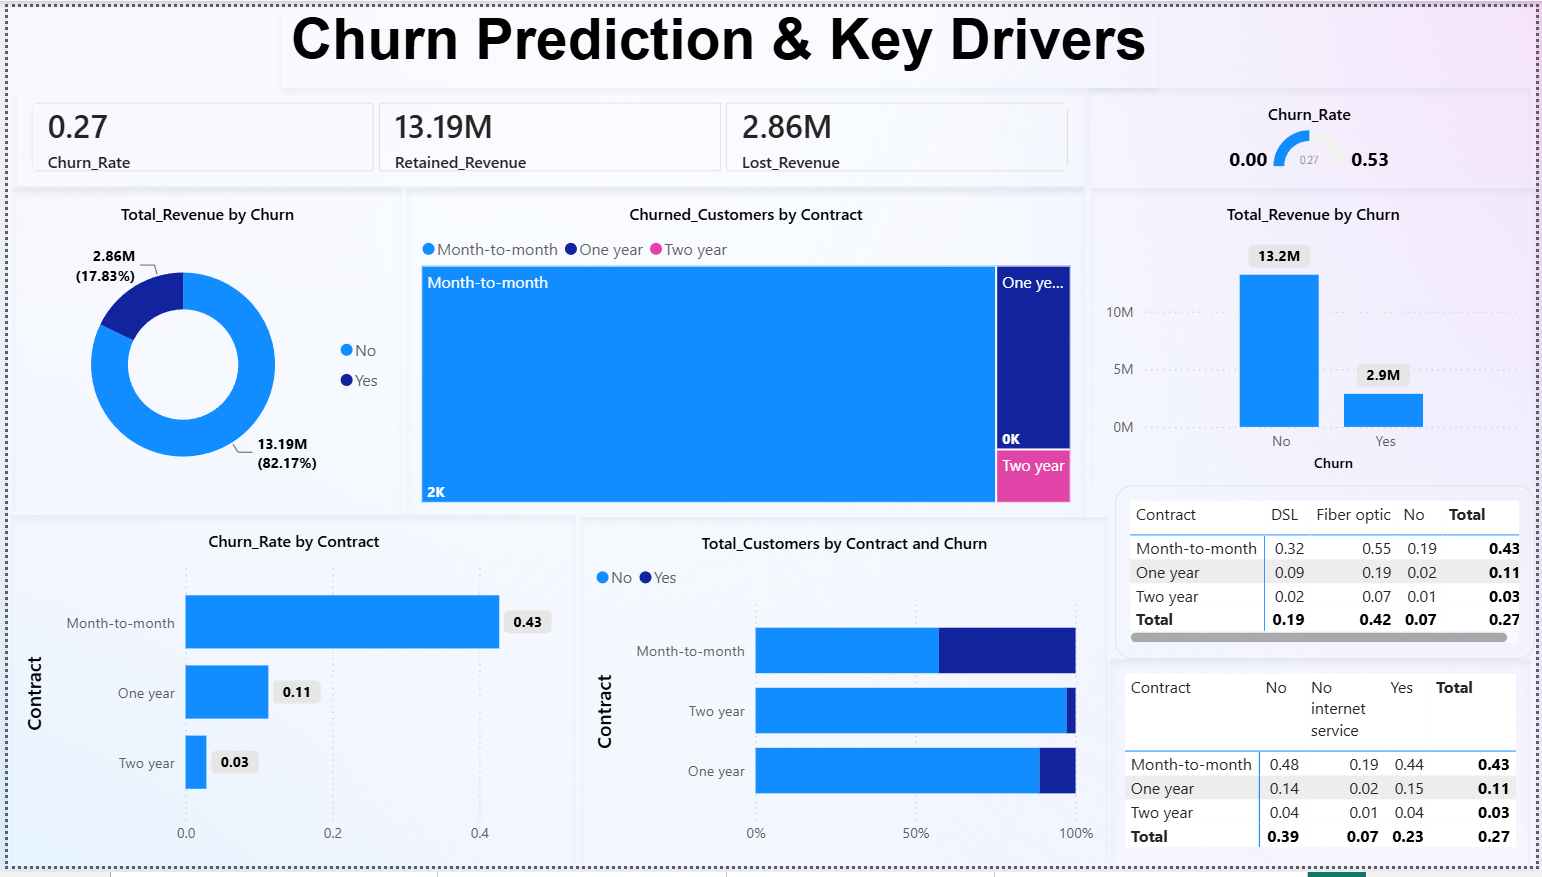

This screenshot's page, from the dashboard's own definition file:
{"tool":"powerbi","page":{"name":"Churn Prediction & Key Drivers","canvas":[1280,720],"ordinal":3},"visuals":[{"type":"clusteredBarChart","fields":{"Category":["Churn_analysis.Contract"],"Y":["Churn_analysis.Churn_Rate"]},"box":[2.4,425.9,474.1,290.8],"z":0},{"type":"hundredPercentStackedBarChart","fields":{"Category":["Churn_analysis.Contract"],"Y":["Churn_analysis.Total_Customers"],"Series":["Churn_analysis.Churn"]},"box":[480.2,427.1,441.6,289.5],"z":1000},{"type":"pivotTable","fields":{"Rows":["Churn_analysis.Contract"],"Columns":["Churn_analysis.DeviceProtection"],"Values":["Churn_analysis.Churn_Rate"]},"box":[923.7,546.3,352.1,173.7],"z":2000},{"type":"pivotTable","fields":{"Rows":["Churn_analysis.Contract"],"Columns":["Churn_analysis.InternetService"],"Values":["Churn_analysis.Churn_Rate"]},"box":[928.4,401.1,352.1,145.3],"z":3000},{"type":"donutChart","fields":{"Category":["Churn_analysis.Churn"],"Y":["Churn_analysis.Total_Revenue"]},"box":[3.6,152,326.9,271.4],"z":4000},{"type":"treemap","fields":{"Group":["Churn_analysis.Contract","Churn_analysis.PaymentMethod","Churn_analysis.InternetService"],"Values":["Churn_analysis.Churned_Customers"]},"box":[334.2,152,568.2,275.1],"z":5000},{"type":"clusteredColumnChart","fields":{"Category":["Churn_analysis.Churn"],"Y":["Churn_analysis.Total_Revenue"]},"box":[907.9,151.6,372.6,249.5],"z":6000},{"type":"cardVisual","fields":{"Data":["Churn_analysis.Churn_Rate","Churn_analysis.Retained_Revenue","Churn_analysis.Lost_Revenue"]},"box":[7.2,67.6,895.2,82],"z":7000},{"type":"gauge","fields":{"Y":["Churn_analysis.Churn_Rate"]},"box":[904.7,67.9,371.1,82.1],"z":8000},{"type":"textbox","box":[229,0,734.2,67.9],"z":9000}]}

Visuals, with their boxes in screenshot pixels (x1, y1, x2, y2), scaled from the page's 1280x720 canvas onto the 1542x877 screenshot:
clusteredBarChart - Churn_analysis.Contract x Churn_analysis.Churn_Rate: l=3, t=519, r=574, b=873
hundredPercentStackedBarChart - Churn_analysis.Contract x Churn_analysis.Total_Customers: l=578, t=520, r=1110, b=873
pivotTable - Churn_analysis.Contract x Churn_analysis.DeviceProtection: l=1113, t=665, r=1537, b=876
pivotTable - Churn_analysis.Contract x Churn_analysis.InternetService: l=1118, t=489, r=1541, b=666
donutChart - Churn_analysis.Churn x Churn_analysis.Total_Revenue: l=4, t=185, r=398, b=516
treemap - Churn_analysis.Contract x Churn_analysis.PaymentMethod: l=403, t=185, r=1087, b=520
clusteredColumnChart - Churn_analysis.Churn x Churn_analysis.Total_Revenue: l=1094, t=185, r=1541, b=489
cardVisual - Churn_analysis.Churn_Rate x Churn_analysis.Retained_Revenue: l=9, t=82, r=1087, b=182
gauge - Churn_analysis.Churn_Rate: l=1090, t=83, r=1537, b=183
textbox: l=276, t=0, r=1160, b=83
